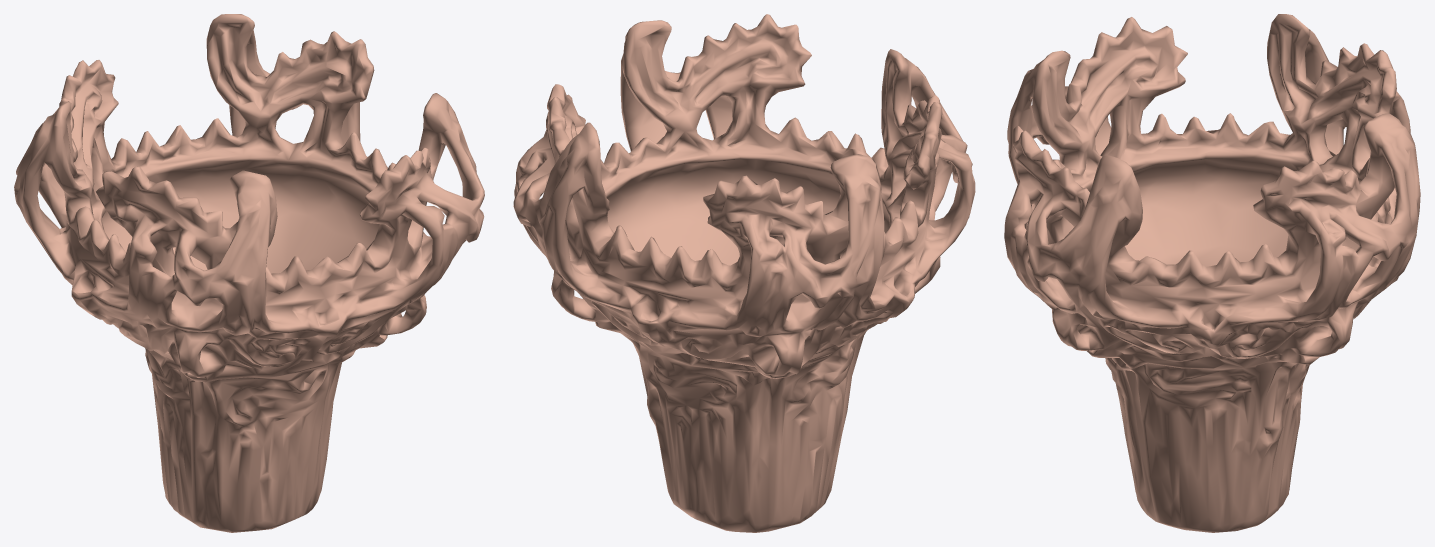
The model's file is wc-kaen-doki-jomon-flame-pot.lod1.glb.
3 views of the same model, side by side, from view 1: azimuth 30°, elevation 25°; view 2: azimuth 150°, elevation 25°; view 3: azimuth 270°, elevation 25° (orthographic). The views are drawn at different scales.
Visible parts, largest first — view 1: wc-kaen-doki-jomon-flame-pot; view 2: wc-kaen-doki-jomon-flame-pot; view 3: wc-kaen-doki-jomon-flame-pot.
Boxes of the visible parts, left/top/right/bottom form: wc-kaen-doki-jomon-flame-pot: left=14, top=14, right=484, bottom=532; wc-kaen-doki-jomon-flame-pot: left=513, top=14, right=975, bottom=532; wc-kaen-doki-jomon-flame-pot: left=1004, top=14, right=1420, bottom=532.
Size of the model in its own units: 0.41 by 0.4592 by 0.4042.
